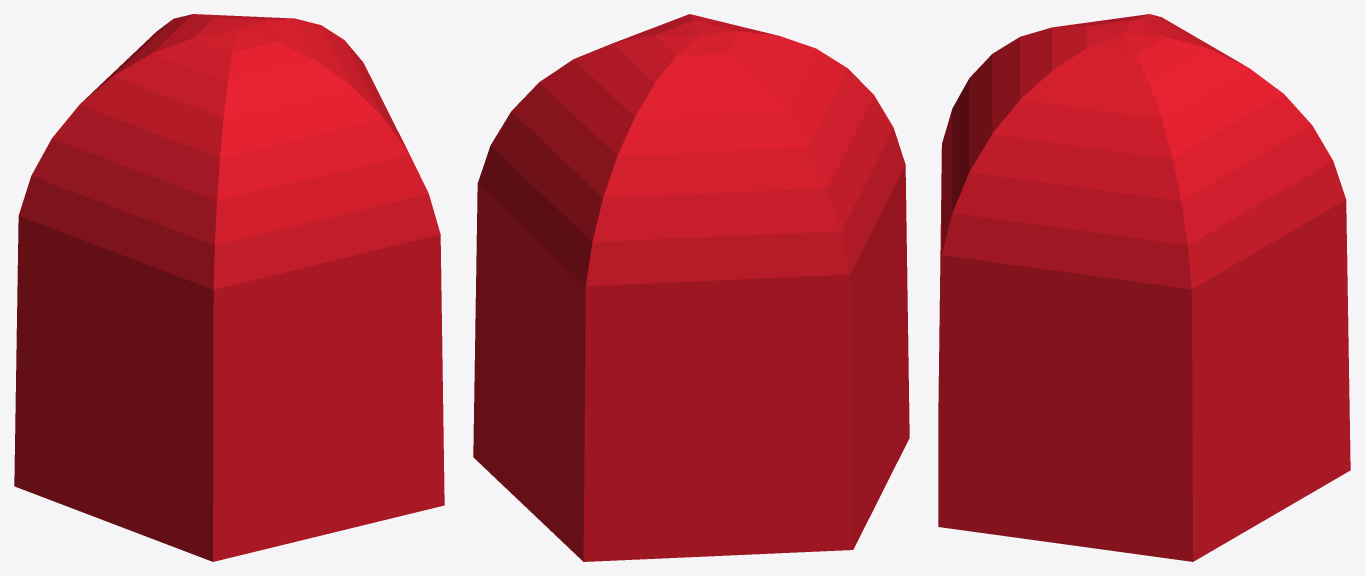
File: Ambulans_Siren.fbx
3 views of the same model, side by side, from view 1: azimuth 30°, elevation 25°; view 2: azimuth 150°, elevation 25°; view 3: azimuth 270°, elevation 25° (orthographic).
Parts seen in each view (by area): view 1: Siren; view 2: Siren; view 3: Siren.
Boxes of the visible parts, <box> form: Siren: <box>14,14,444,561</box>; Siren: <box>473,14,909,561</box>; Siren: <box>938,14,1350,561</box>.
Bounding box in the file's own units: 37.36 × 41.56 × 35.53.
